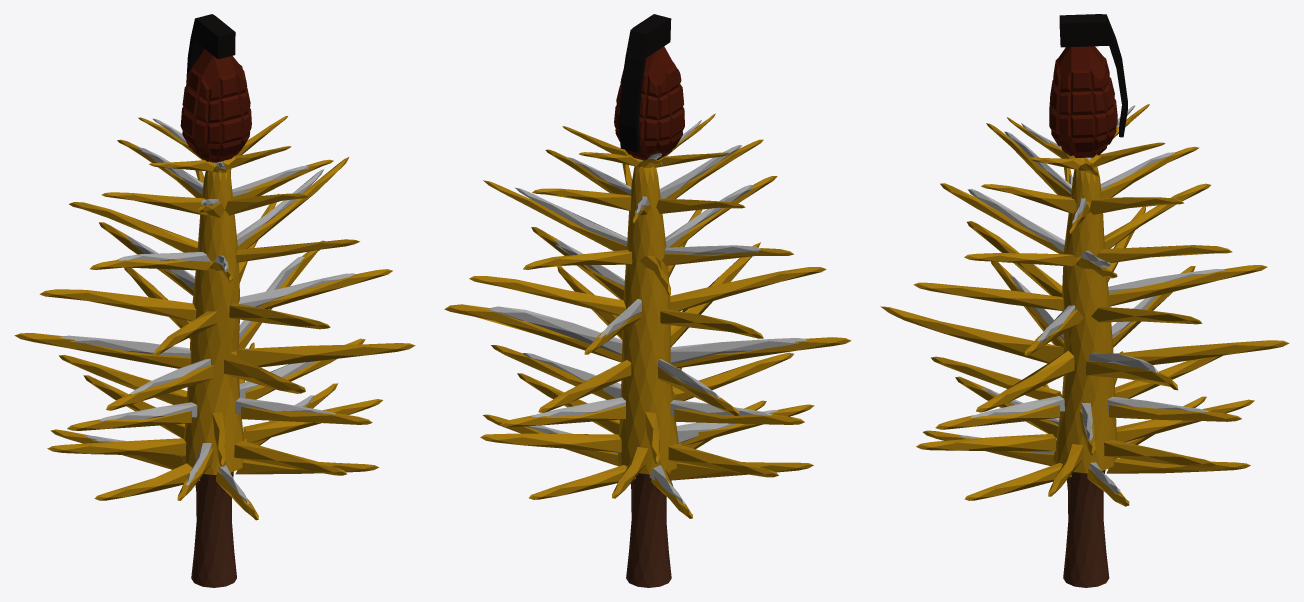
File: Pine Bomber.fbx
3 renders of one model, left to right at view 1: azimuth 30°, elevation 25°; view 2: azimuth 150°, elevation 25°; view 3: azimuth 270°, elevation 25°, orthographic.
Visible parts, largest first — view 1: funny little pinecrone, pine damaged, and his funny little grenade; view 2: funny little pinecrone, pine damaged, and his funny little grenade; view 3: funny little pinecrone, and his funny little grenade, pine damaged.
Part boxes in pixels (left/top/right/bottom): funny little pinecrone: left=14, top=116, right=415, bottom=587; pine damaged: left=60, top=118, right=355, bottom=503; and his funny little grenade: left=180, top=14, right=251, bottom=162; funny little pinecrone: left=444, top=113, right=851, bottom=587; pine damaged: left=489, top=120, right=806, bottom=504; and his funny little grenade: left=614, top=14, right=684, bottom=160; funny little pinecrone: left=880, top=104, right=1289, bottom=587; and his funny little grenade: left=1049, top=14, right=1127, bottom=157; pine damaged: left=960, top=105, right=1224, bottom=494.
Bounding box in the file's own units: 208 × 351 × 232.
